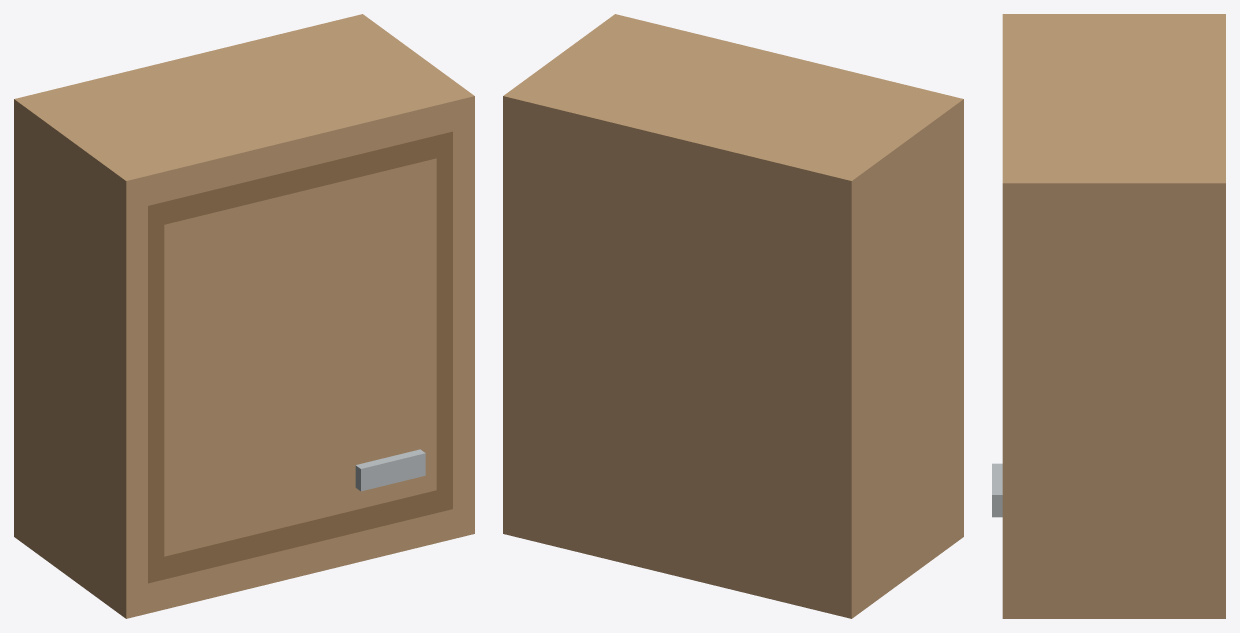
The model's file is kitchen-wall.glb.
3 views of the same model, side by side, from view 1: azimuth 30°, elevation 25°; view 2: azimuth 150°, elevation 25°; view 3: azimuth 270°, elevation 25° (orthographic).
Visible parts, largest first — view 1: kitchen-wall; view 2: kitchen-wall; view 3: kitchen-wall.
Boxes of the visible parts, left/top/right/bottom form: kitchen-wall: left=14, top=14, right=474, bottom=618; kitchen-wall: left=503, top=14, right=963, bottom=618; kitchen-wall: left=992, top=14, right=1225, bottom=618.
Size of the model in its own units: 0.6 by 0.72 by 0.35.
